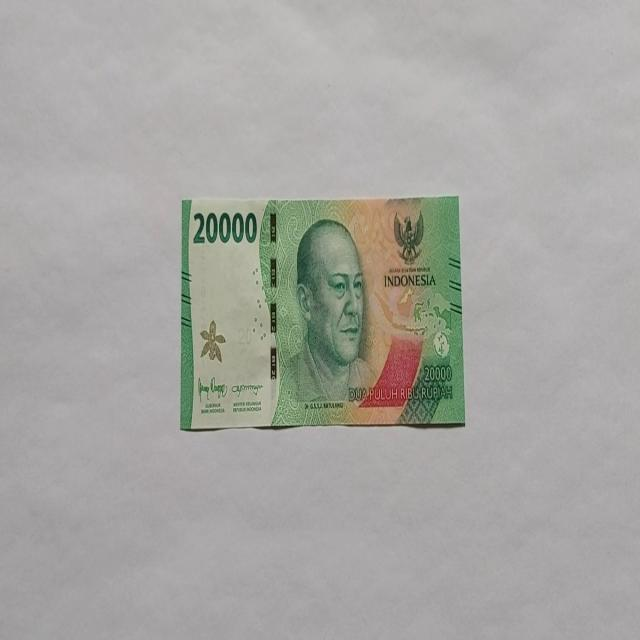dua puluh ribu rupiah: (179, 194, 465, 432)
